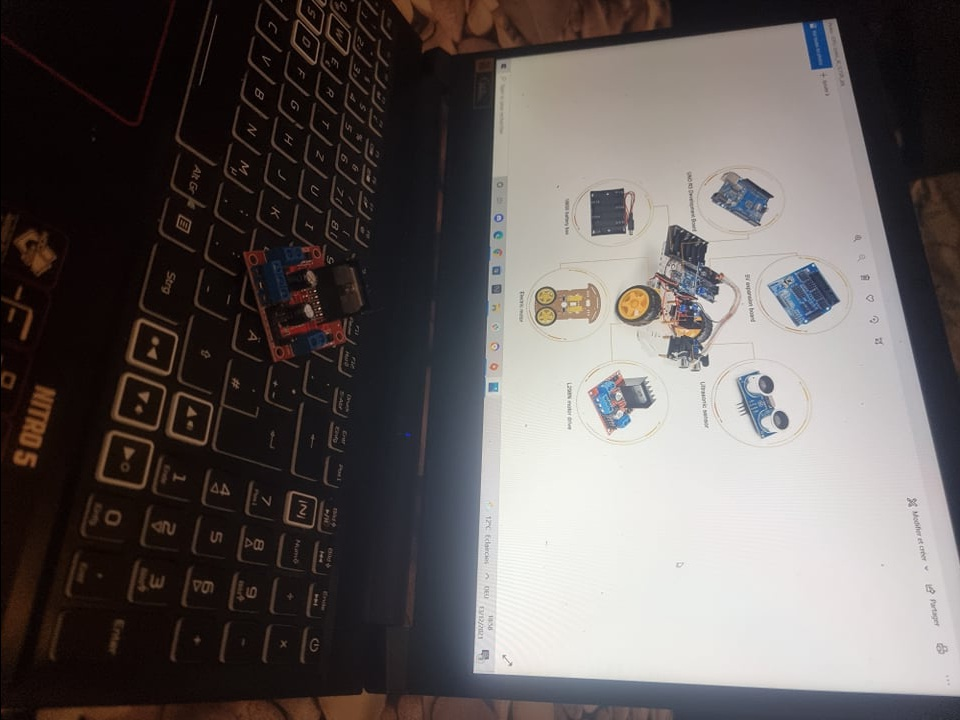5V EXPANSION: (765, 258, 843, 329)
BATTERY BOX: (587, 189, 626, 238)
MOTOR: (238, 233, 364, 363), (588, 368, 657, 435)
SENSOR: (737, 371, 795, 439), (671, 356, 705, 378)
UNO R3: (704, 170, 778, 232)
